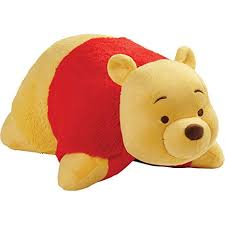Winnie: (97, 42, 225, 182)
